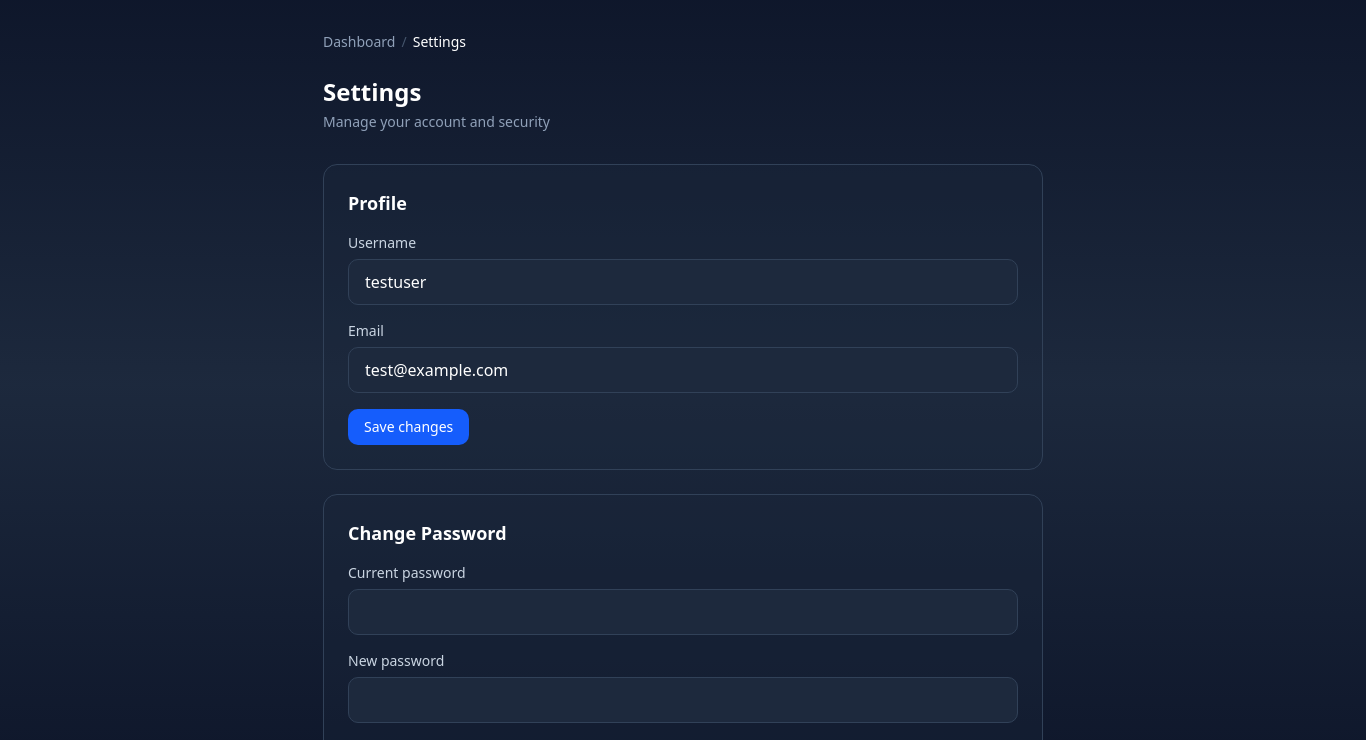
Scenario: SettingsPage › shows error on profile update failure
The image size is (1366, 740).
Expected: the field showing "testuser" below "Username" is shown, [348,259,1018,305]
Click the button "Save changes" at coordinates (409, 427), box [348,409,469,445]
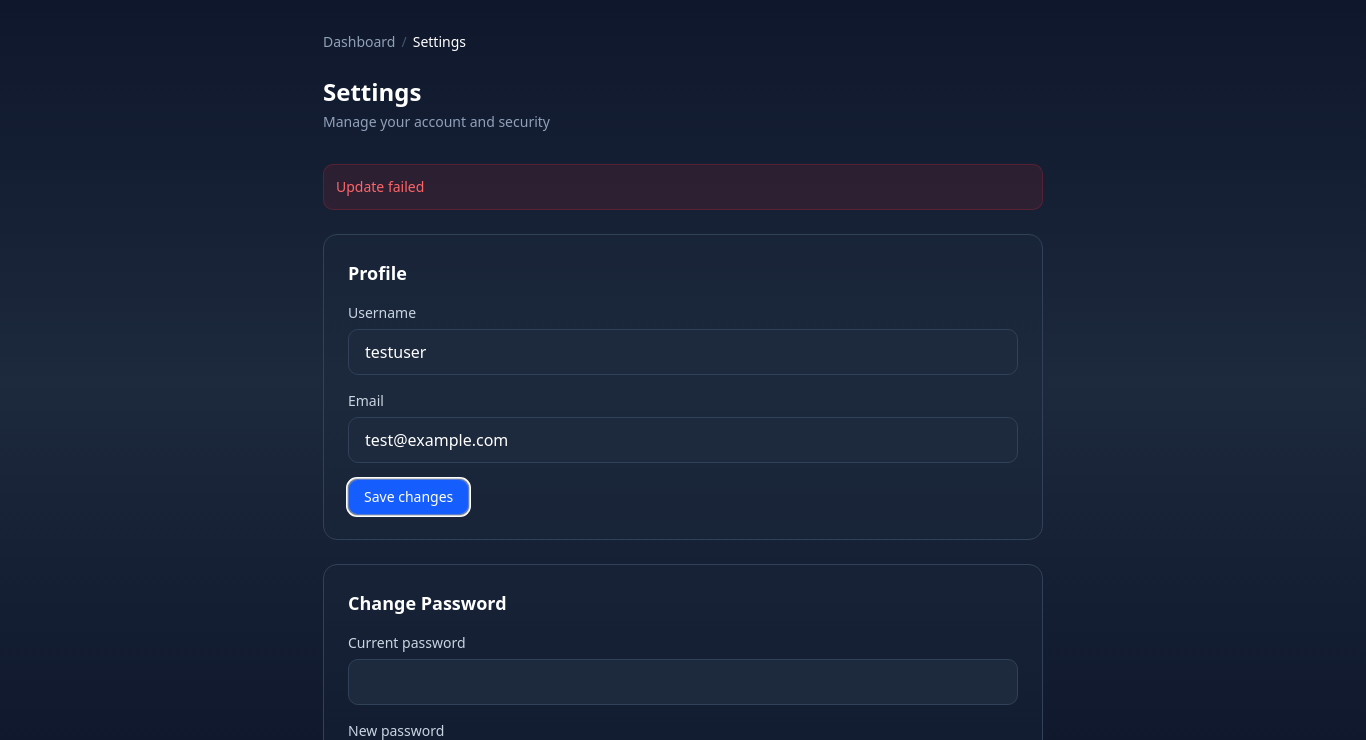
Expected: the text "Update failed" is shown, [323,164,1043,210]
